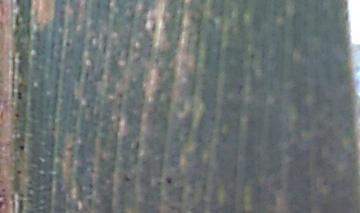tarspot: (164, 176, 174, 187), (15, 95, 26, 101), (17, 145, 26, 152), (124, 175, 133, 182), (15, 169, 23, 176), (13, 112, 22, 117), (16, 92, 23, 96)
